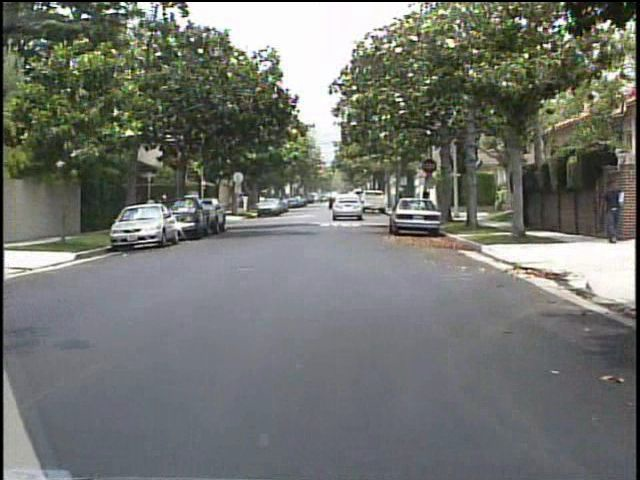person: (594, 176, 624, 249), (147, 193, 163, 229), (418, 184, 435, 215)
